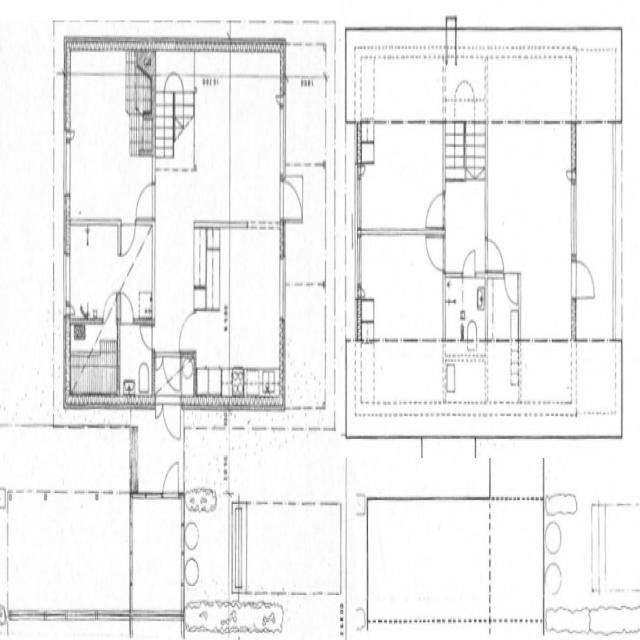door: (280, 178, 305, 218), (571, 260, 596, 299), (163, 396, 180, 446), (176, 313, 196, 350), (134, 184, 154, 218), (163, 352, 180, 391), (426, 237, 445, 270), (426, 194, 445, 227), (162, 460, 178, 498), (486, 239, 504, 270), (121, 220, 136, 254), (462, 246, 476, 277), (121, 293, 134, 324), (103, 294, 116, 324), (505, 272, 517, 302), (140, 327, 155, 349), (156, 396, 162, 425), (155, 352, 163, 371)
